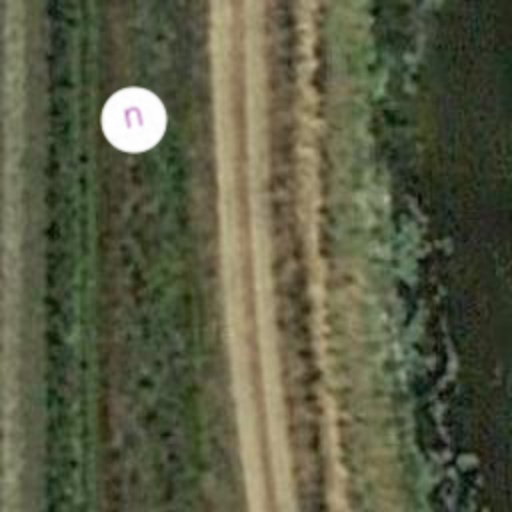circle: (94, 80, 174, 160)
